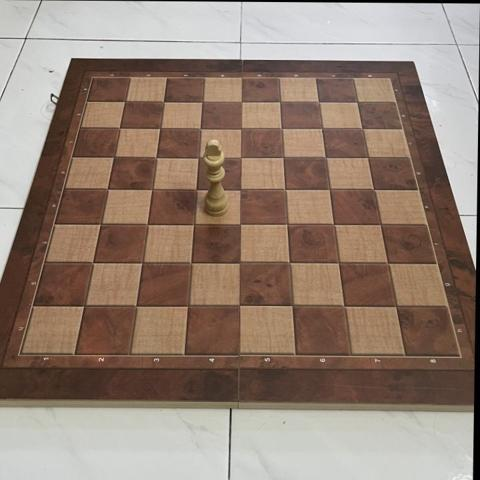xcorner: (232, 92, 251, 111), (116, 91, 135, 110), (316, 148, 335, 167), (231, 214, 250, 233), (348, 93, 366, 112), (309, 93, 328, 111), (313, 119, 331, 138), (272, 119, 291, 137), (192, 118, 210, 137), (151, 118, 170, 136), (358, 149, 377, 167), (190, 147, 208, 166), (147, 147, 166, 165), (232, 179, 250, 198), (187, 179, 206, 197), (99, 178, 117, 197), (324, 215, 343, 233), (138, 214, 157, 232), (92, 213, 110, 232), (378, 254, 396, 273), (231, 253, 249, 272), (334, 297, 353, 315), (231, 296, 249, 315), (75, 295, 93, 314), (271, 93, 289, 111), (194, 92, 212, 110), (155, 92, 173, 110), (353, 120, 371, 138), (232, 119, 250, 137), (111, 118, 129, 136), (274, 148, 292, 166), (232, 148, 250, 166), (105, 147, 123, 165), (364, 181, 382, 199), (320, 180, 338, 198), (276, 180, 294, 198), (143, 179, 161, 197), (371, 216, 389, 234), (278, 215, 296, 233), (185, 214, 203, 232), (329, 254, 347, 272), (280, 254, 298, 272), (182, 253, 200, 271), (133, 253, 151, 271), (84, 252, 102, 270), (386, 298, 404, 316), (283, 297, 301, 315), (179, 296, 197, 314), (127, 296, 145, 314)
